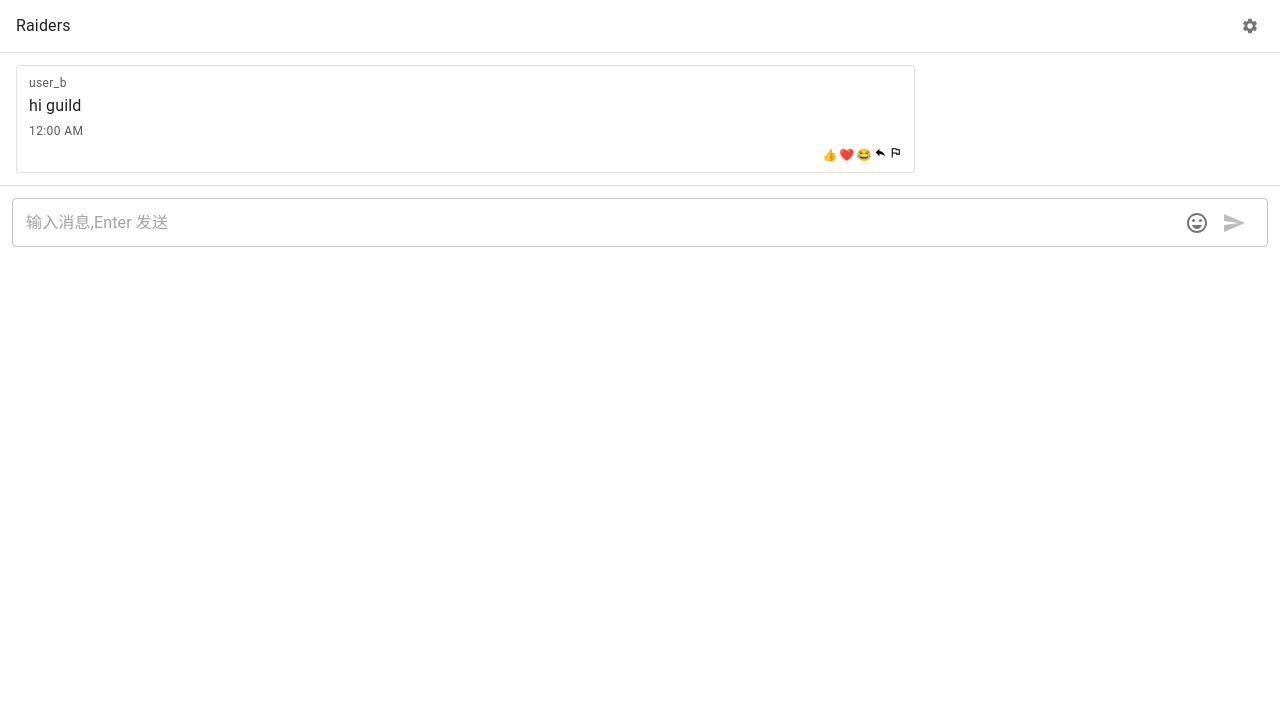
Test case: ChatWindow C8 › opens group settings from the header for group channels only
Check: the text "hi guild" is shown, box top-left (29, 96), bottom-right (82, 115)
Click the button with test id "group-settings".
click(1250, 26)  # box top-left (1236, 12), bottom-right (1264, 40)
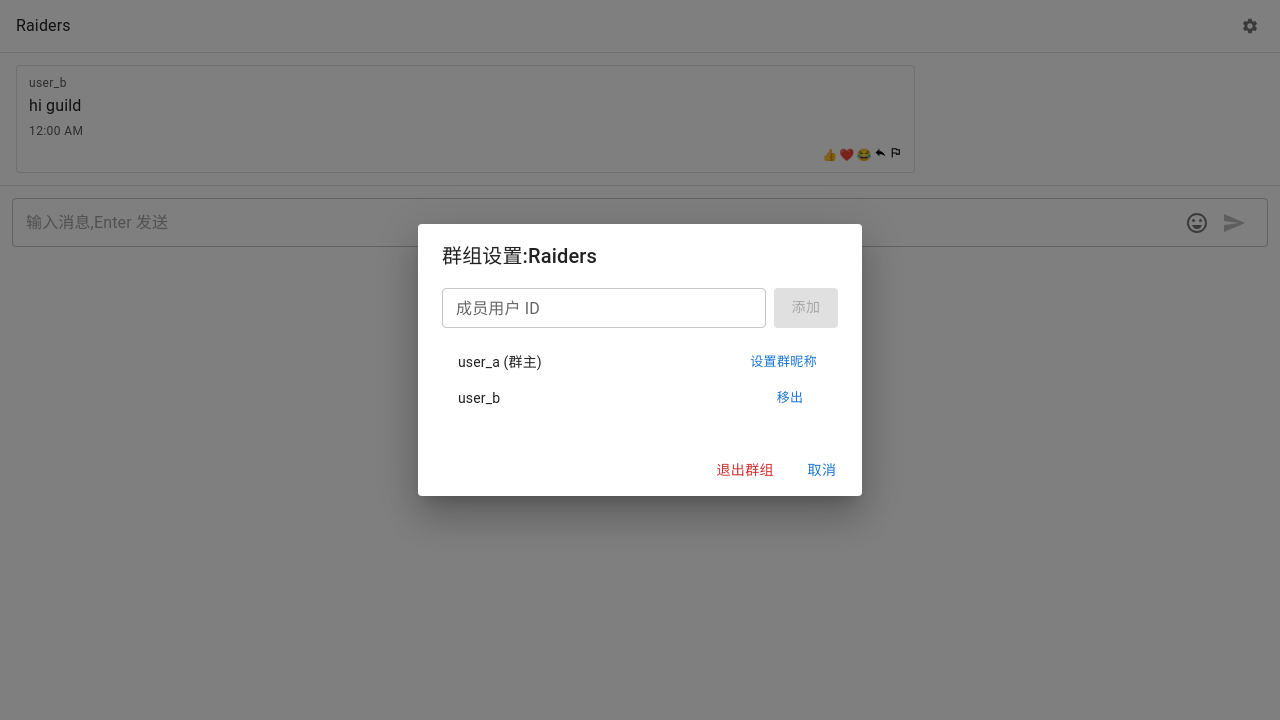
Check: the button with test id "kick-user_b" is shown, box top-left (758, 382), bottom-right (822, 413)
